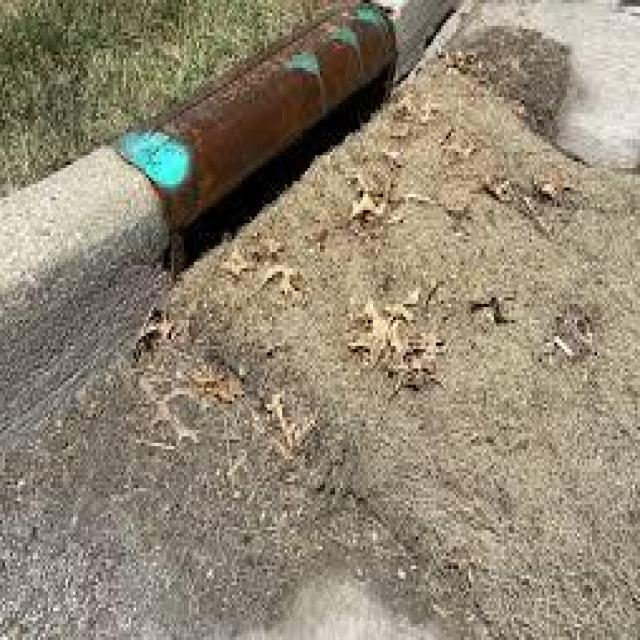curb: (2, 107, 198, 423), (176, 4, 448, 230)
